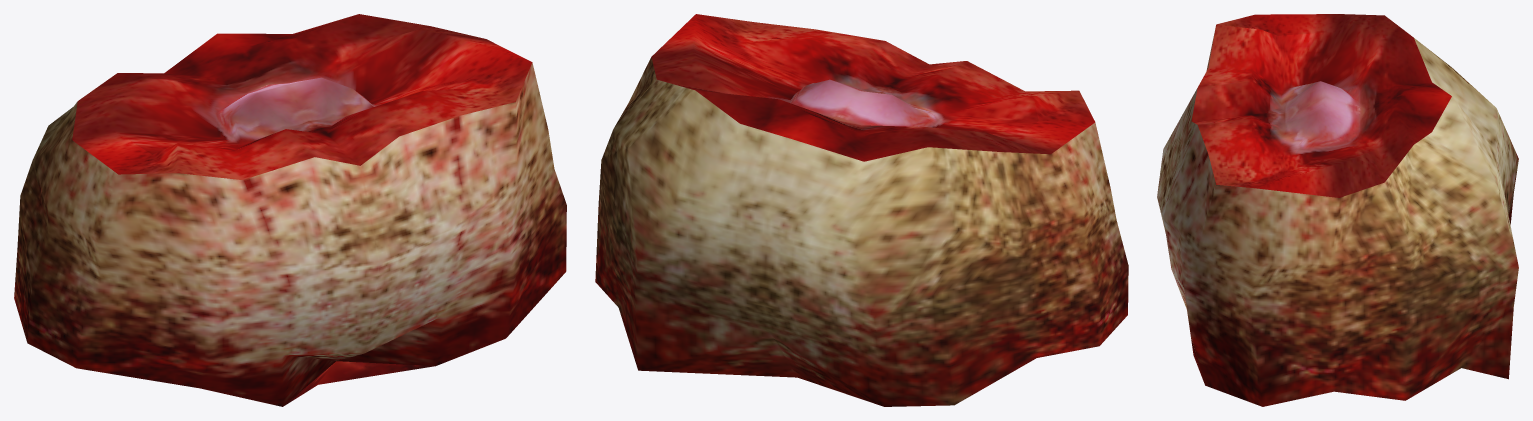
The model's file is female_hips.fbx.
The picture shows the model from 3 angles, left to right: view 1: azimuth 30°, elevation 25°; view 2: azimuth 150°, elevation 25°; view 3: azimuth 270°, elevation 25°; orthographic projection. The views are drawn at different scales.
Visible parts, largest first — view 1: fm_hips_gib; view 2: fm_hips_gib; view 3: fm_hips_gib.
Boxes of the visible parts, left/top/right/bottom form: fm_hips_gib: left=14, top=14, right=566, bottom=406; fm_hips_gib: left=595, top=14, right=1128, bottom=406; fm_hips_gib: left=1157, top=14, right=1518, bottom=406.
Size of the model in its own units: 0.4031 by 0.2157 by 0.2724.
